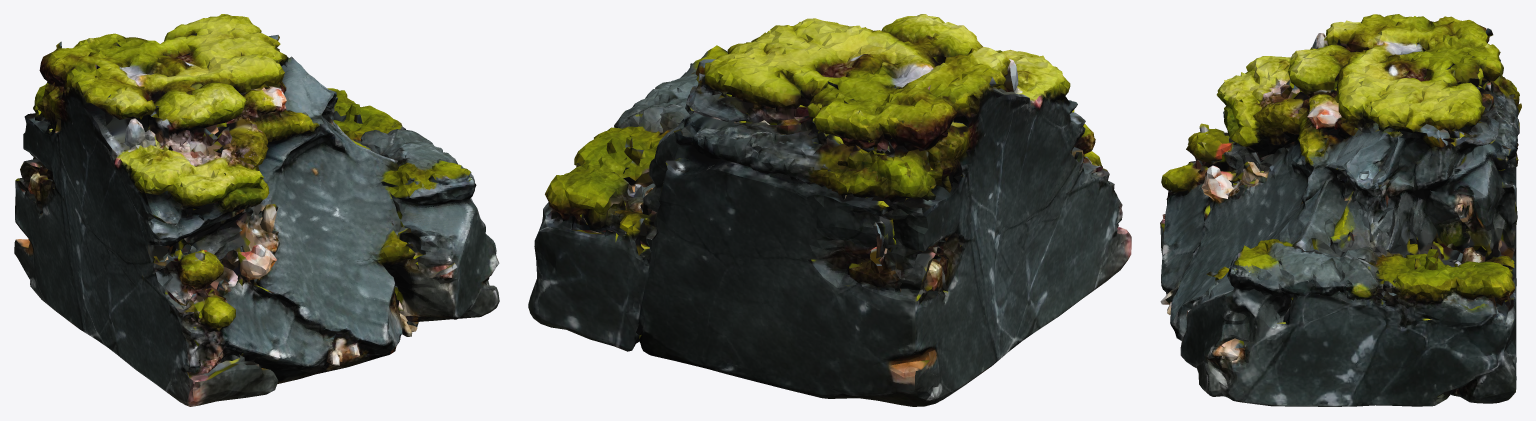
Rendered from dragon_cave_mountain_shale.glb.
3 renders of one model, left to right at view 1: azimuth 30°, elevation 25°; view 2: azimuth 150°, elevation 25°; view 3: azimuth 270°, elevation 25°, orthographic. The views are drawn at different scales.
Visible parts, largest first — view 1: temp_mesh.ply; view 2: temp_mesh.ply; view 3: temp_mesh.ply.
Part boxes in pixels (<box>): temp_mesh.ply: <box>14,14,499,406</box>; temp_mesh.ply: <box>528,14,1131,406</box>; temp_mesh.ply: <box>1160,14,1521,406</box>.
Bounding box in the file's own units: 1.97 × 1.42 × 1.89.
1 material, 1 textured.
